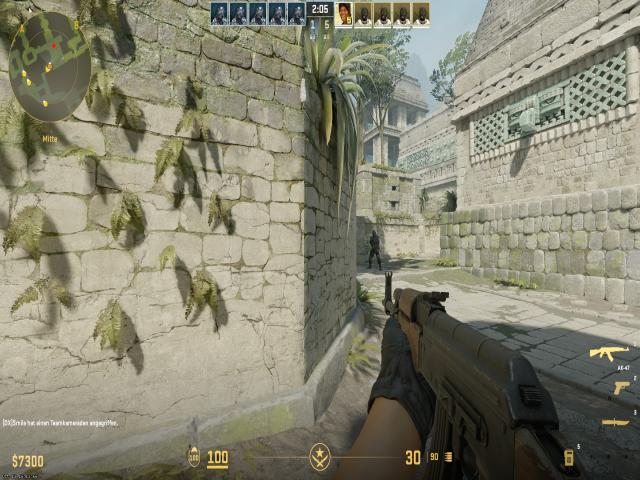CT: (367, 227, 382, 270)
CT-Head: (370, 228, 378, 241)
